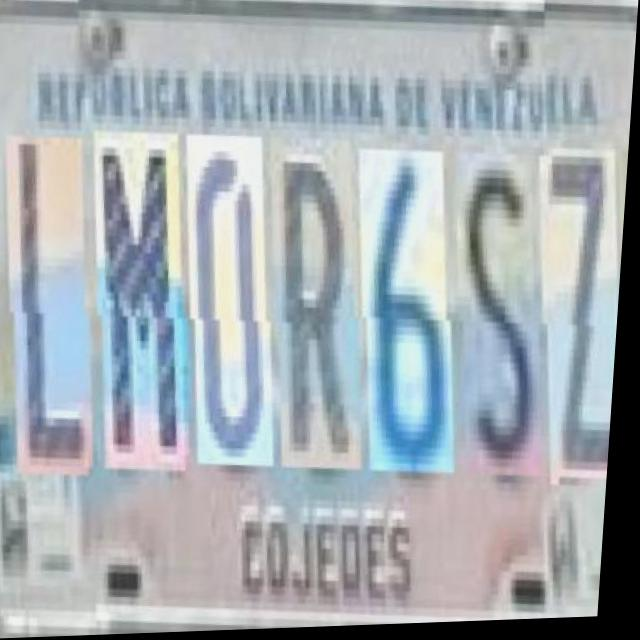0: (172, 129, 289, 467)
6: (344, 143, 469, 472)
l: (0, 126, 108, 471)
m: (78, 126, 205, 473)
r: (255, 132, 377, 470)
s: (442, 145, 558, 477)
z: (524, 148, 631, 486)
